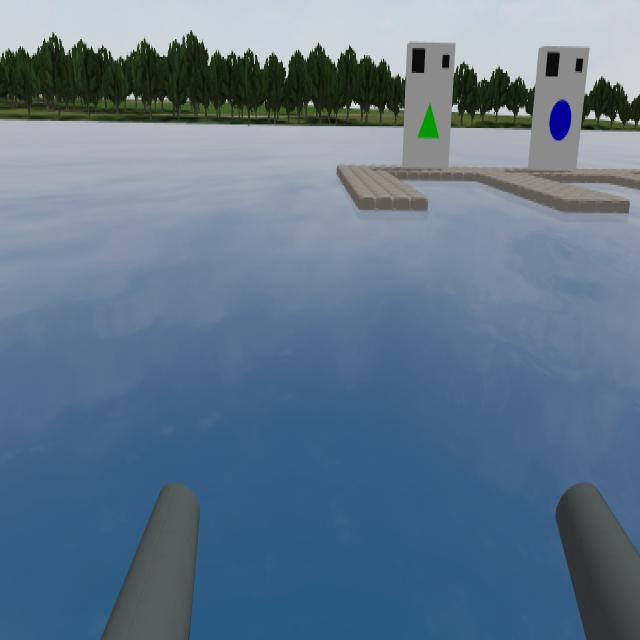dock: (408, 41, 450, 169), (539, 45, 581, 172)
